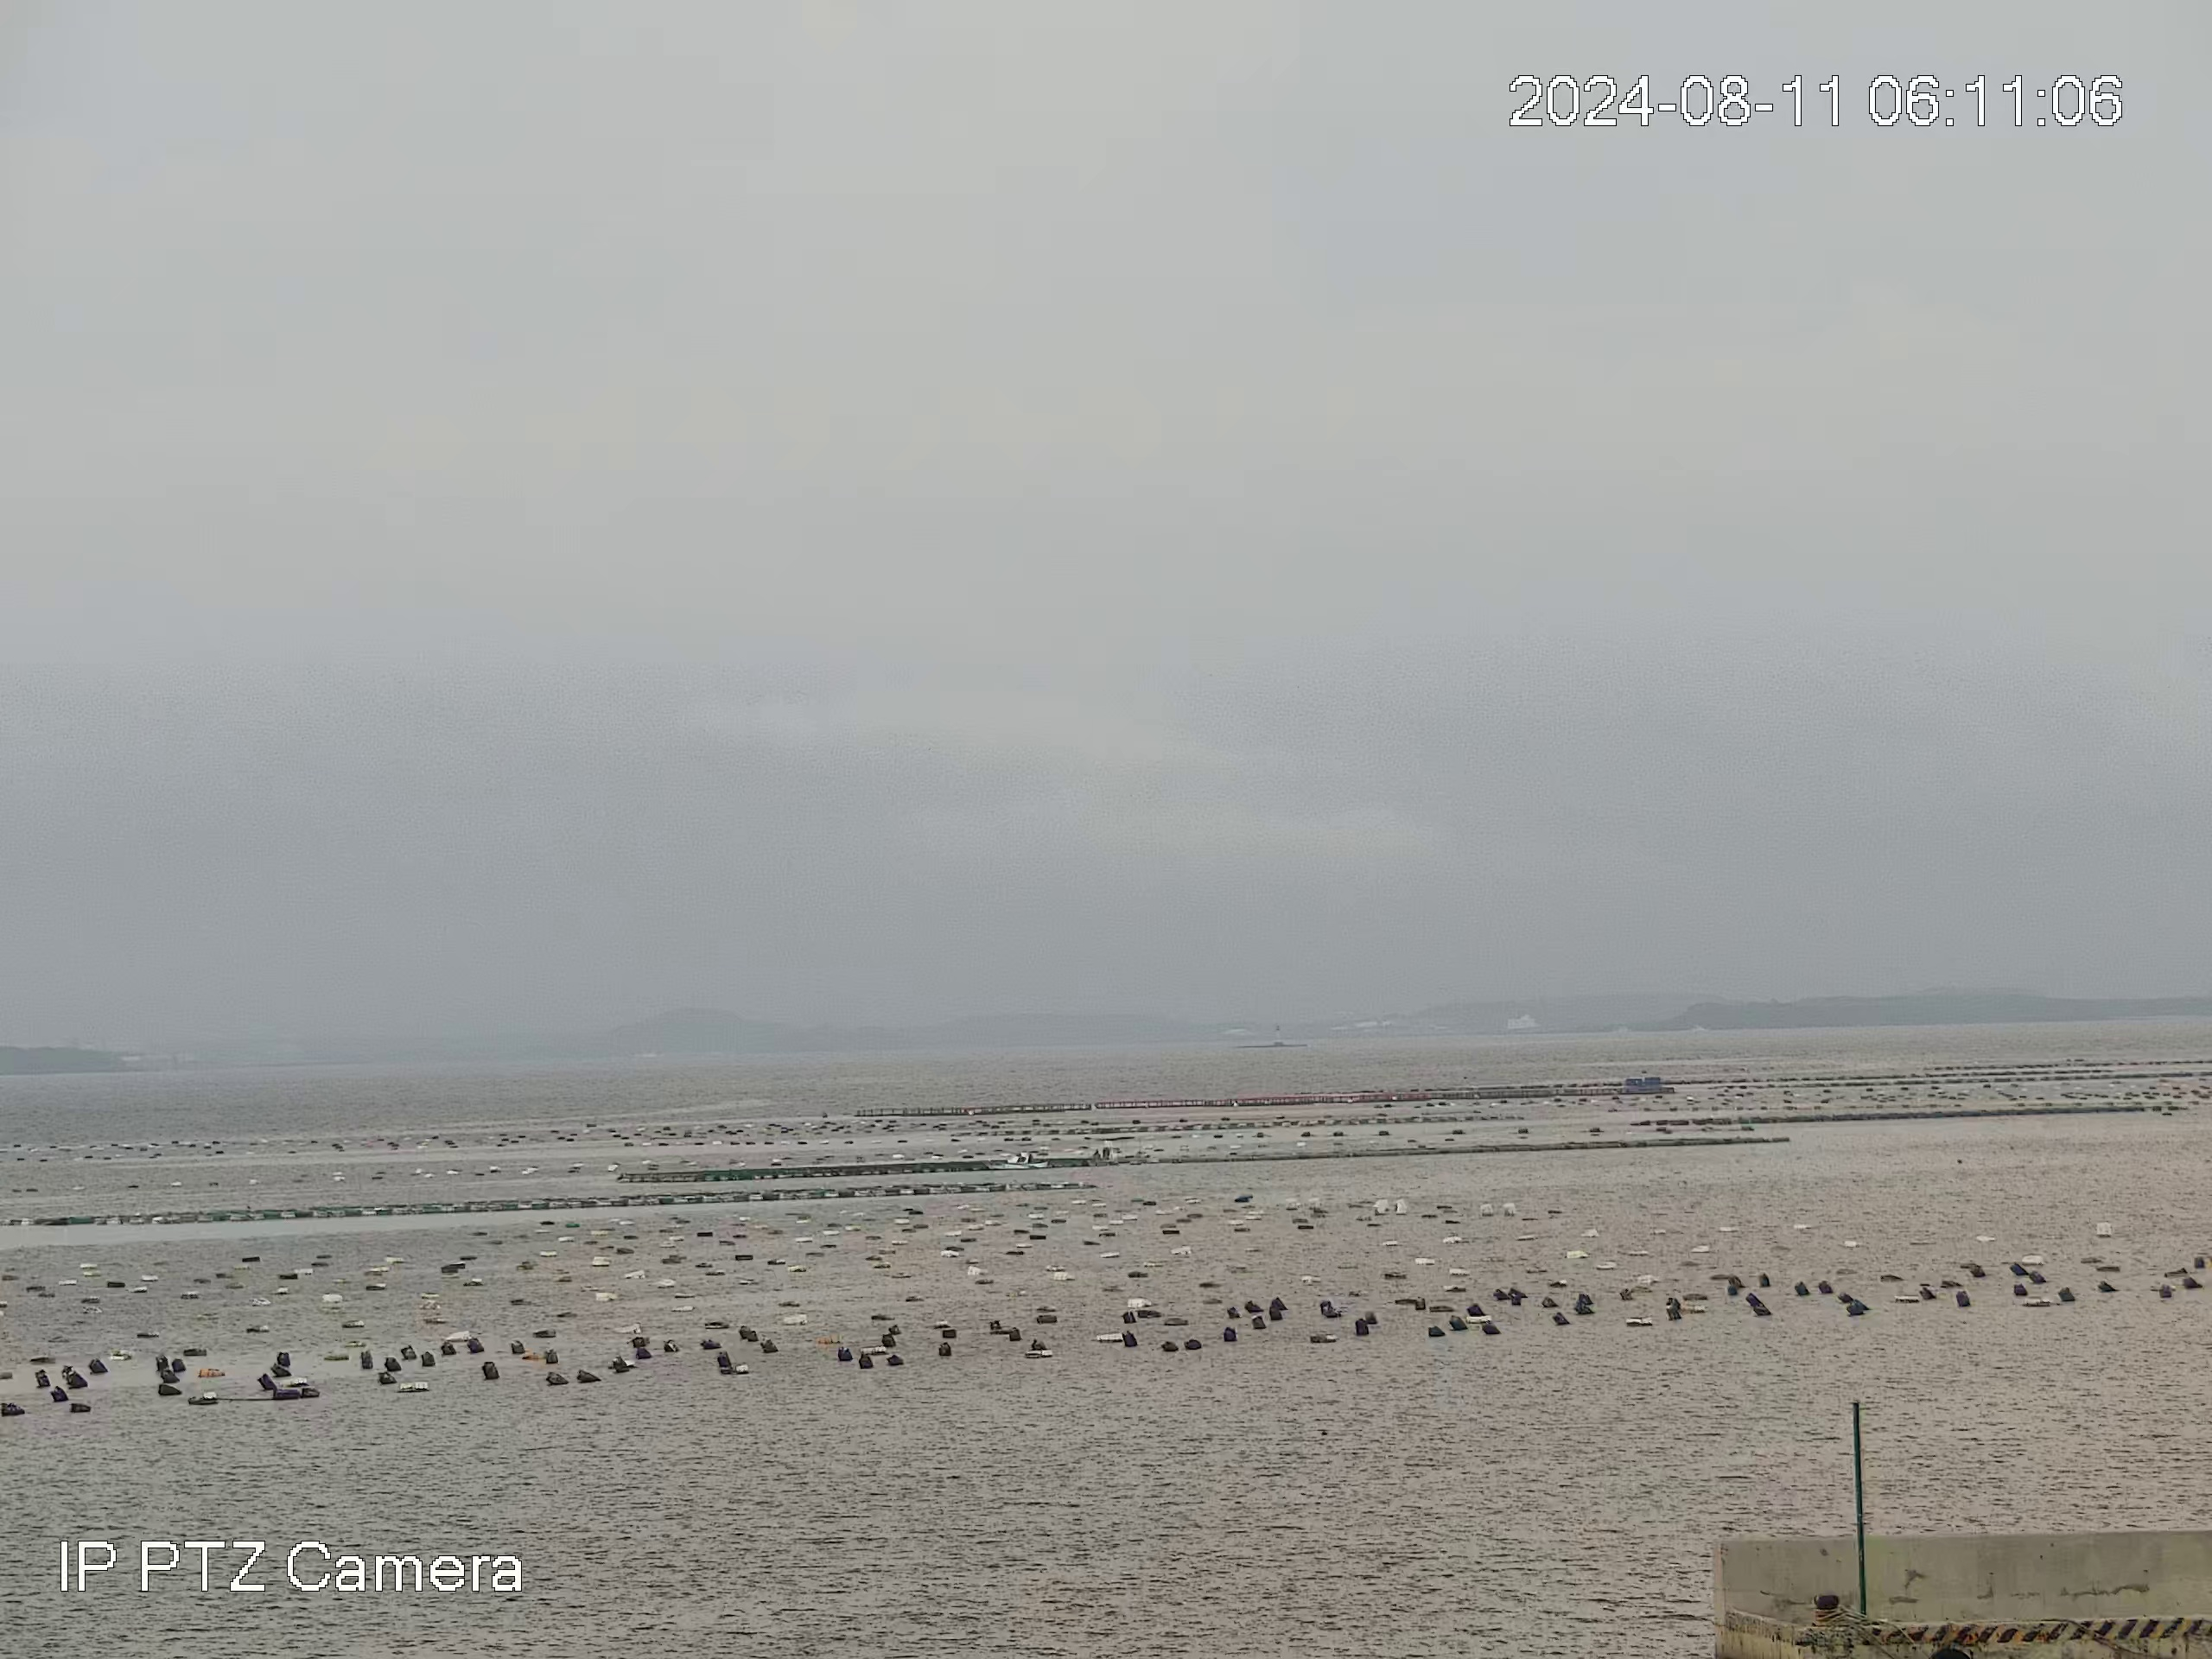boat: (979, 1148, 1050, 1171)
